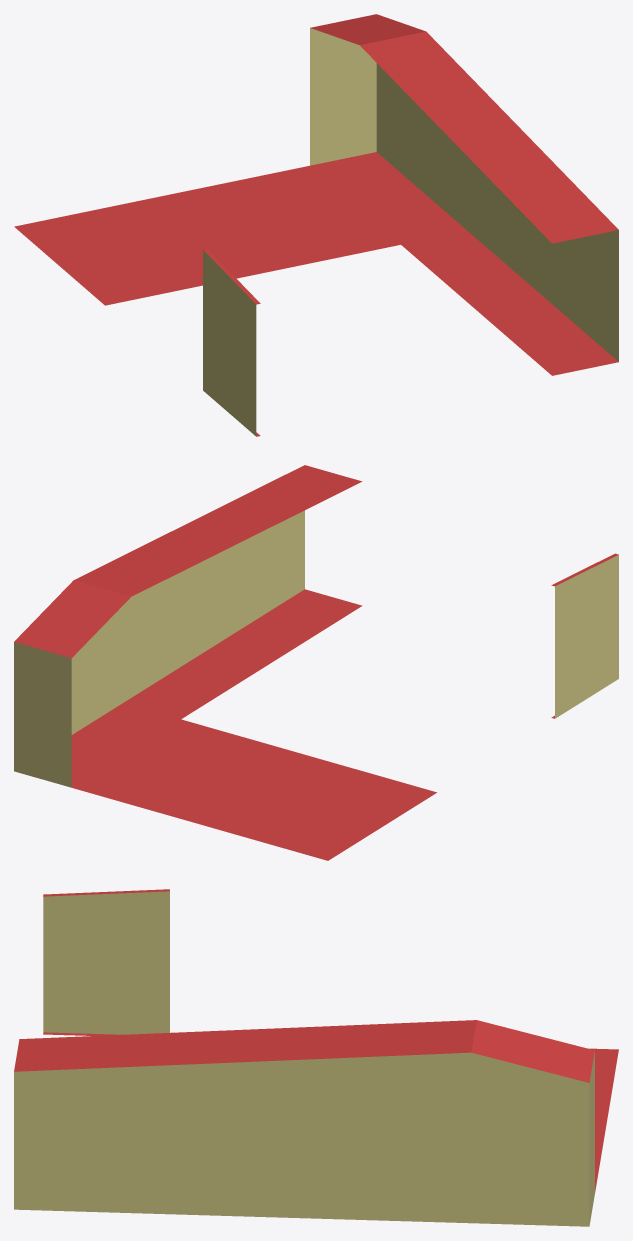
The picture shows the model from 3 angles, top to bottom: view 1: azimuth 30°, elevation 25°; view 2: azimuth 150°, elevation 25°; view 3: azimuth 270°, elevation 25°; orthographic projection. The views are drawn at different scales.
Size of the model in its own units: 22.33 by 29.37 by 9.14.
